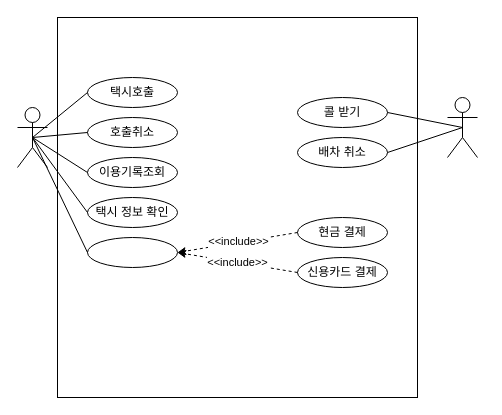
This 502x415 diagram has some shape labels left out. The shapes that lost their labels are listed below. From the top down, each one's centre as x and y in pixels, then its label:
the point at 32,137: 승객
the point at 462,127: 택시기사
the point at 132,252: 결제
